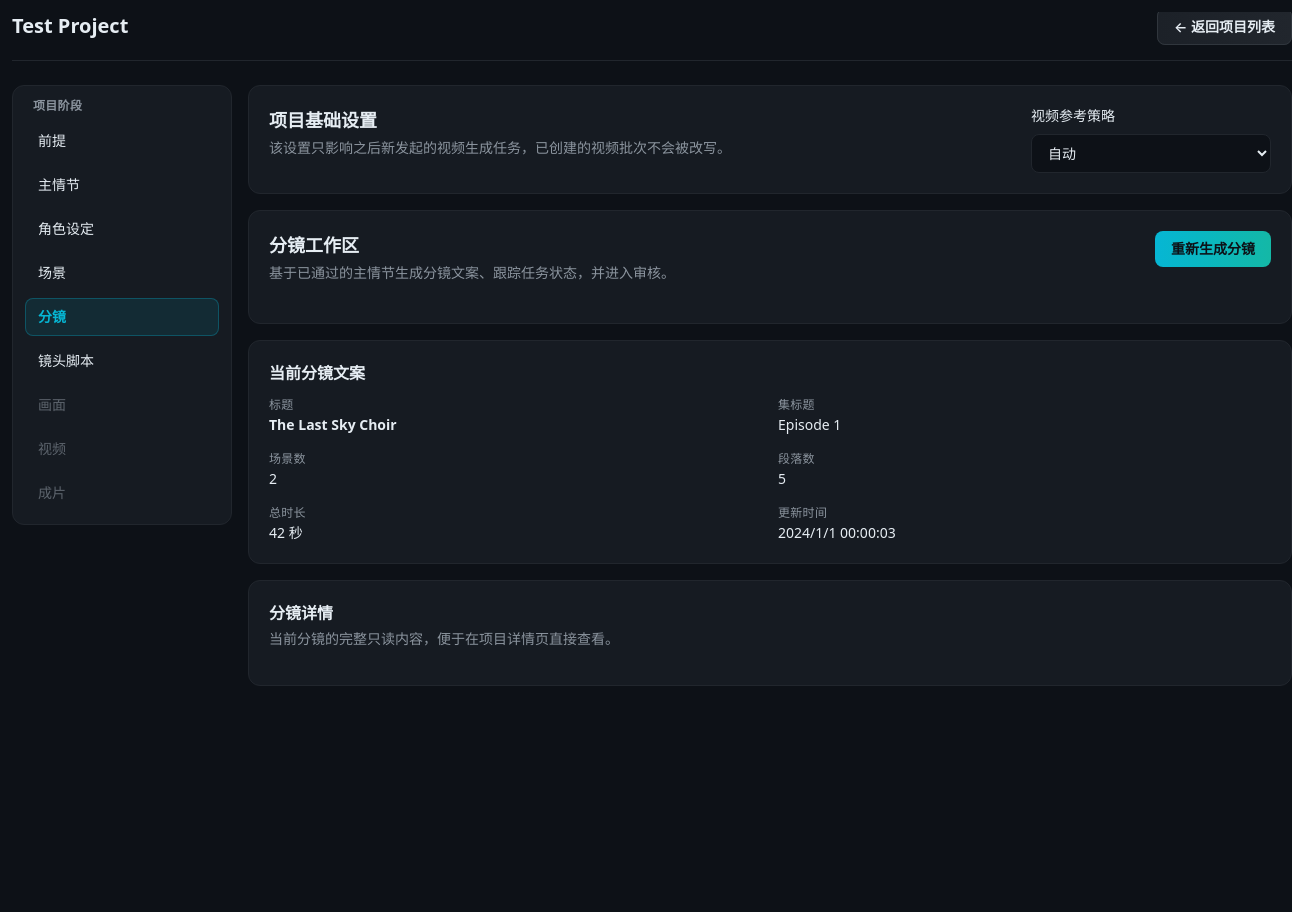
Test: Project Detail Page › enables the shot-script panel after storyboard approval
The width and height of the screenshot is (1292, 912).
Click the button "镜头脚本".
click(122, 361)  # box [25,342,219,380]
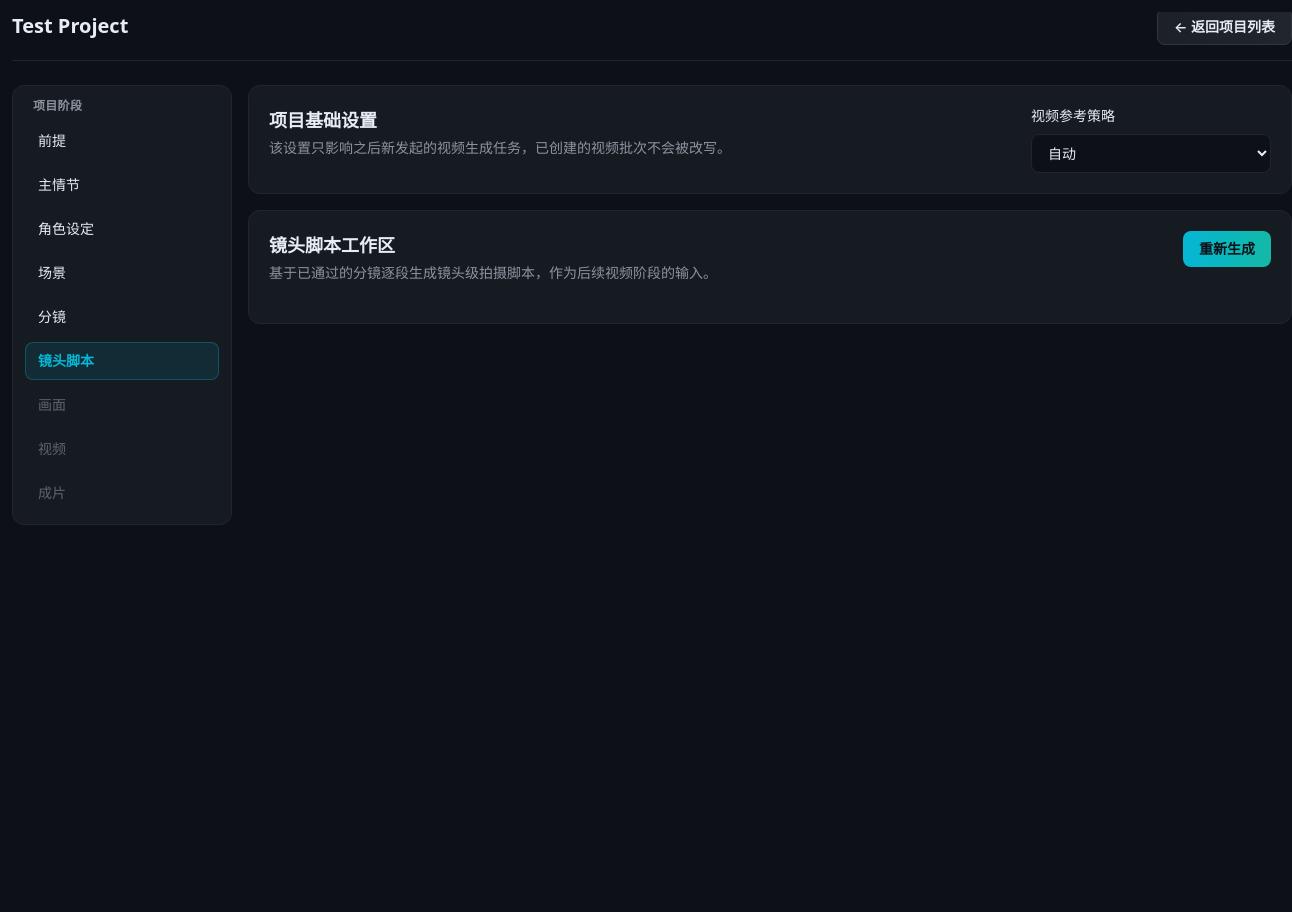
Check: the button "重新生成" is shown, box [1183,231,1271,267]
Check: the heading "镜头脚本工作区" is shown, box [269,233,395,257]
